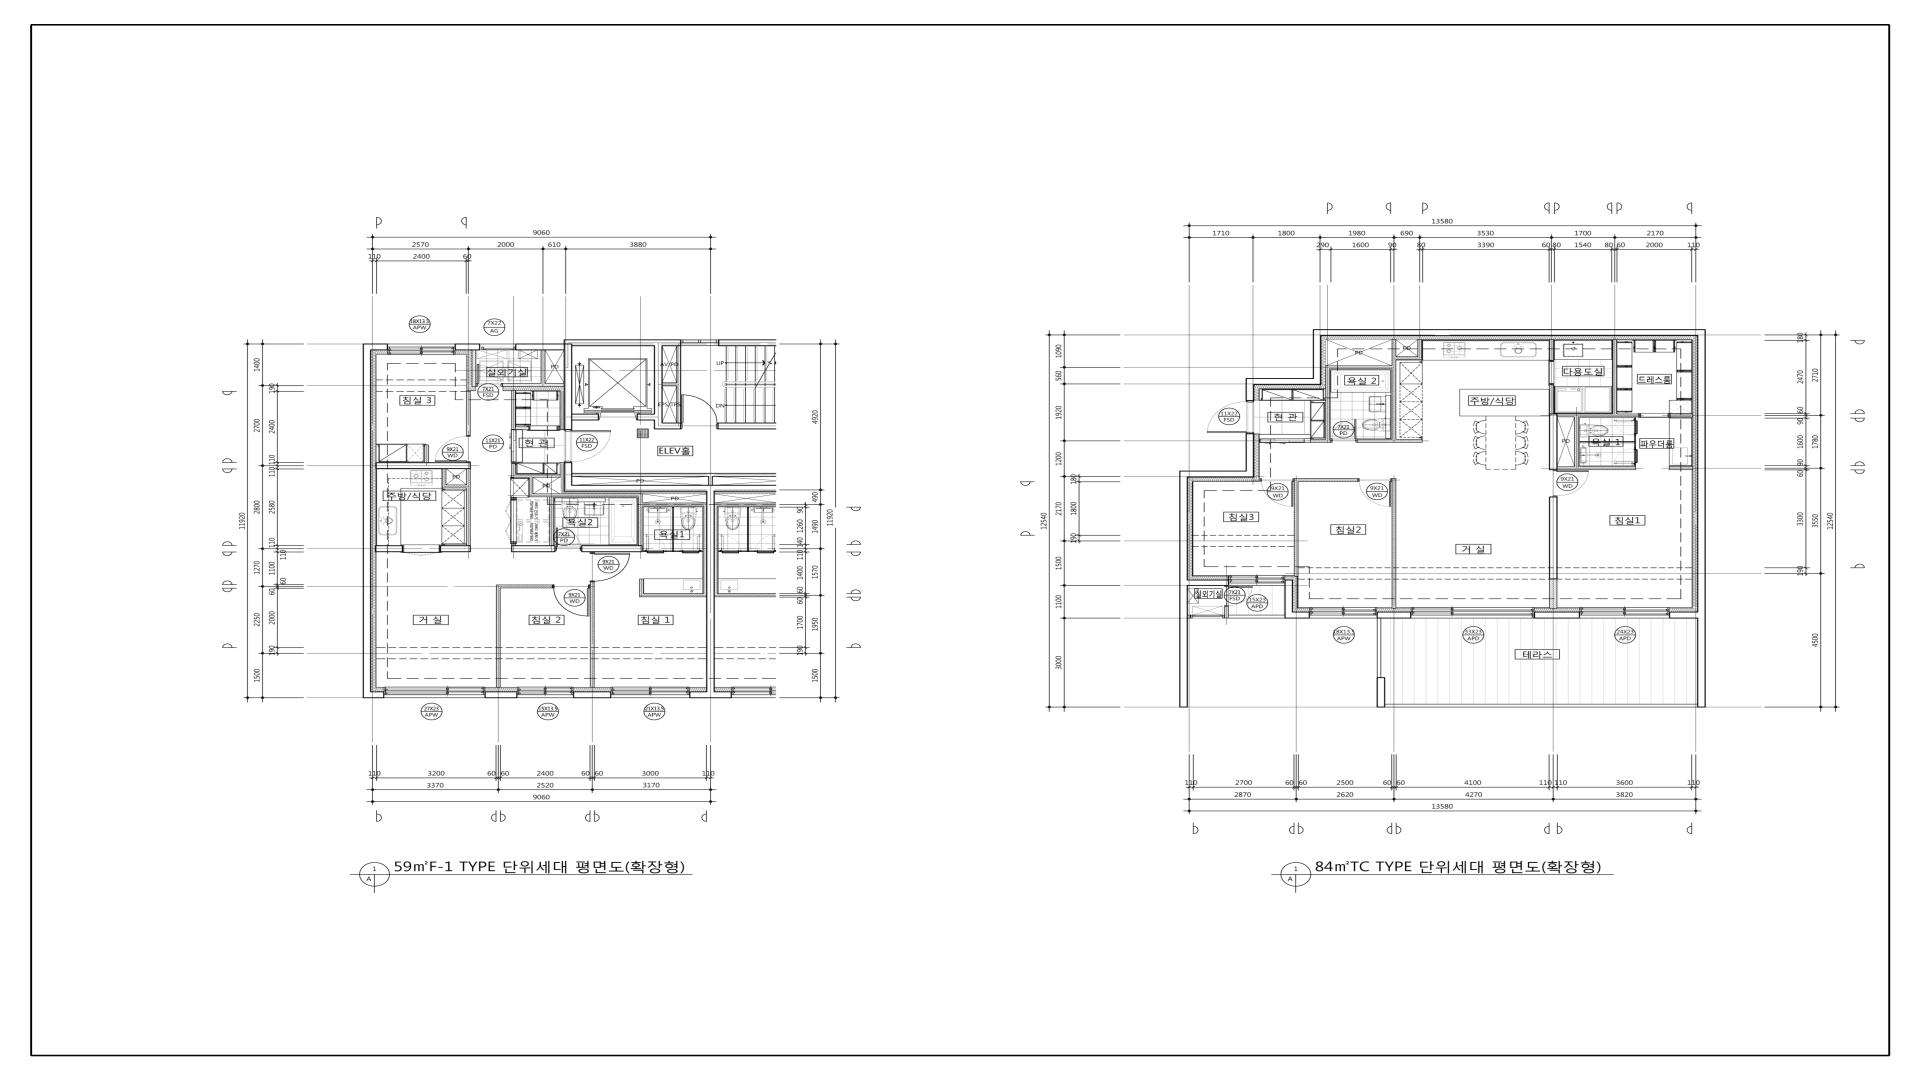door: (564, 430, 612, 463), (1207, 401, 1249, 433), (682, 394, 719, 429), (553, 584, 591, 617), (589, 553, 632, 582), (435, 436, 471, 463), (1553, 471, 1589, 496), (1261, 480, 1292, 506), (1360, 480, 1391, 506), (555, 527, 582, 551), (476, 364, 502, 386), (1332, 419, 1357, 440), (1226, 587, 1253, 605), (402, 545, 440, 555), (1614, 419, 1638, 435), (1614, 448, 1638, 464), (510, 430, 517, 463), (1259, 439, 1311, 443), (1639, 413, 1669, 418), (1548, 361, 1555, 385), (529, 426, 558, 431)
wall: (1245, 330, 1706, 618), (1179, 433, 1254, 618), (363, 351, 372, 692), (705, 492, 715, 691), (572, 485, 775, 492), (1284, 580, 1309, 618), (572, 473, 777, 477), (563, 344, 572, 430), (564, 339, 682, 345), (1548, 496, 1557, 579), (1391, 479, 1396, 609), (376, 463, 471, 469), (589, 582, 595, 687), (654, 345, 662, 414), (496, 584, 501, 687), (1391, 339, 1396, 439), (1548, 414, 1557, 471), (1294, 481, 1299, 576), (719, 339, 777, 347), (529, 493, 638, 497), (582, 546, 642, 553), (1613, 339, 1618, 414), (717, 423, 777, 430), (516, 343, 563, 351), (1325, 369, 1331, 439), (1557, 467, 1636, 471), (676, 345, 680, 423), (1534, 612, 1580, 618), (467, 469, 471, 546), (574, 691, 611, 699), (512, 546, 555, 553), (1325, 365, 1391, 369), (1357, 439, 1423, 443), (644, 593, 707, 597), (642, 502, 704, 506), (654, 421, 680, 430), (465, 390, 471, 436), (1549, 579, 1557, 609), (704, 504, 707, 593), (564, 463, 572, 492), (1377, 612, 1411, 618), (1557, 414, 1639, 417), (485, 691, 517, 698), (638, 495, 642, 546), (440, 546, 471, 553), (1575, 417, 1578, 467), (363, 343, 388, 351), (690, 691, 715, 699), (455, 343, 480, 351), (512, 473, 560, 477), (550, 497, 554, 545), (375, 546, 402, 553), (1294, 479, 1360, 481), (572, 414, 599, 421), (541, 351, 546, 384), (637, 414, 662, 421), (502, 384, 564, 386), (512, 390, 516, 430), (1548, 385, 1553, 414), (1578, 440, 1634, 443), (472, 351, 476, 386), (500, 585, 553, 588), (363, 691, 384, 698), (1396, 356, 1422, 360), (1549, 339, 1553, 361), (1311, 439, 1331, 443), (640, 579, 644, 597), (442, 469, 446, 488), (425, 444, 429, 463), (1224, 605, 1229, 618), (1418, 339, 1422, 356), (529, 477, 533, 495), (1668, 467, 1693, 469), (1669, 414, 1693, 417), (662, 382, 676, 386), (446, 485, 467, 488), (512, 464, 516, 473), (516, 427, 529, 430), (1634, 435, 1636, 448), (708, 477, 712, 485), (1188, 615, 1191, 618), (558, 426, 560, 430), (512, 545, 516, 546)
window: (1411, 607, 1534, 618), (384, 687, 485, 698), (1580, 607, 1669, 618), (611, 687, 690, 698), (1309, 607, 1377, 618), (388, 344, 455, 355), (1228, 575, 1284, 587), (517, 687, 574, 698), (480, 344, 516, 349), (1191, 615, 1225, 618)
